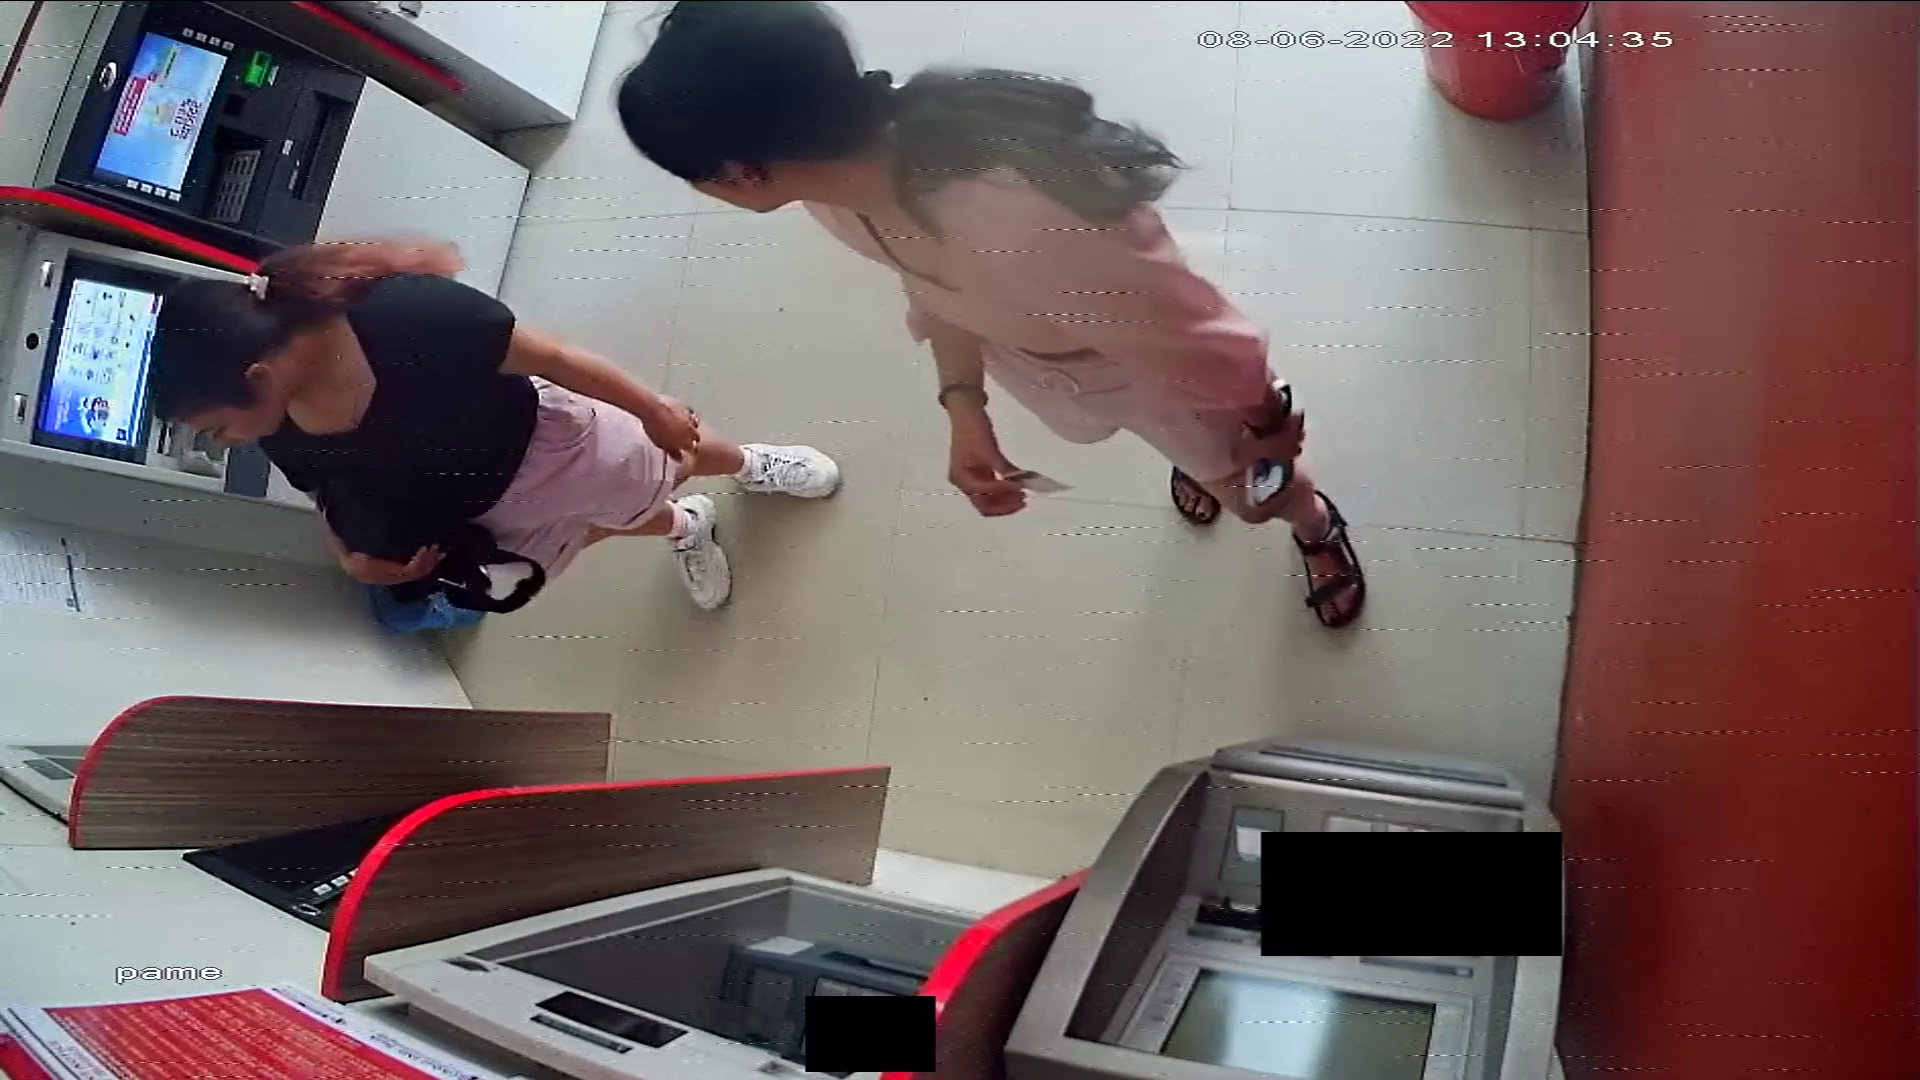person: (612, 1, 1371, 633), (147, 235, 839, 618)
phone: (1241, 376, 1304, 503)
